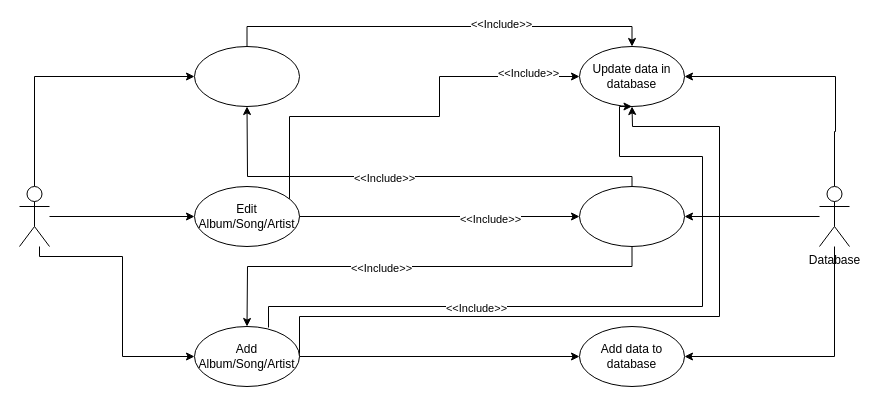
Some shapes in this 877 by 404 pixel diagram are drawn without their labels. Here are the shapes that lost their labels. From the top down, the centre of each, then its label:
point (247, 76): Remove Album/Song/Artist
point (34, 216): Admin
point (631, 216): Check database
